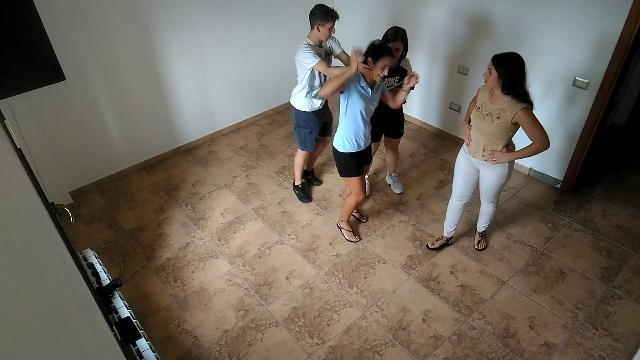non-violence: (428, 52, 550, 250)
violence: (290, 5, 420, 244)
